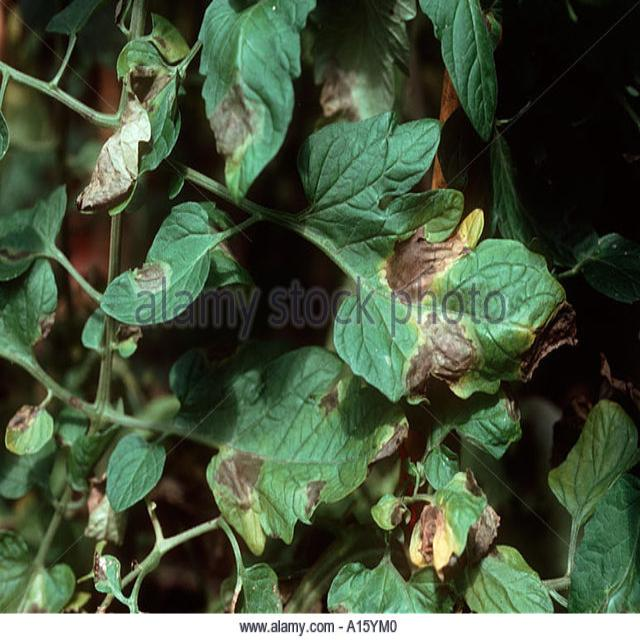Late_blight: (74, 61, 179, 218), (392, 309, 481, 403), (376, 221, 474, 305), (203, 78, 269, 171), (516, 298, 577, 390), (411, 498, 463, 581), (210, 448, 269, 509), (80, 473, 125, 548), (466, 479, 500, 567), (6, 397, 51, 455), (320, 71, 359, 125), (367, 418, 414, 461), (130, 255, 171, 293), (310, 379, 346, 419), (304, 476, 324, 521), (37, 308, 55, 344)
